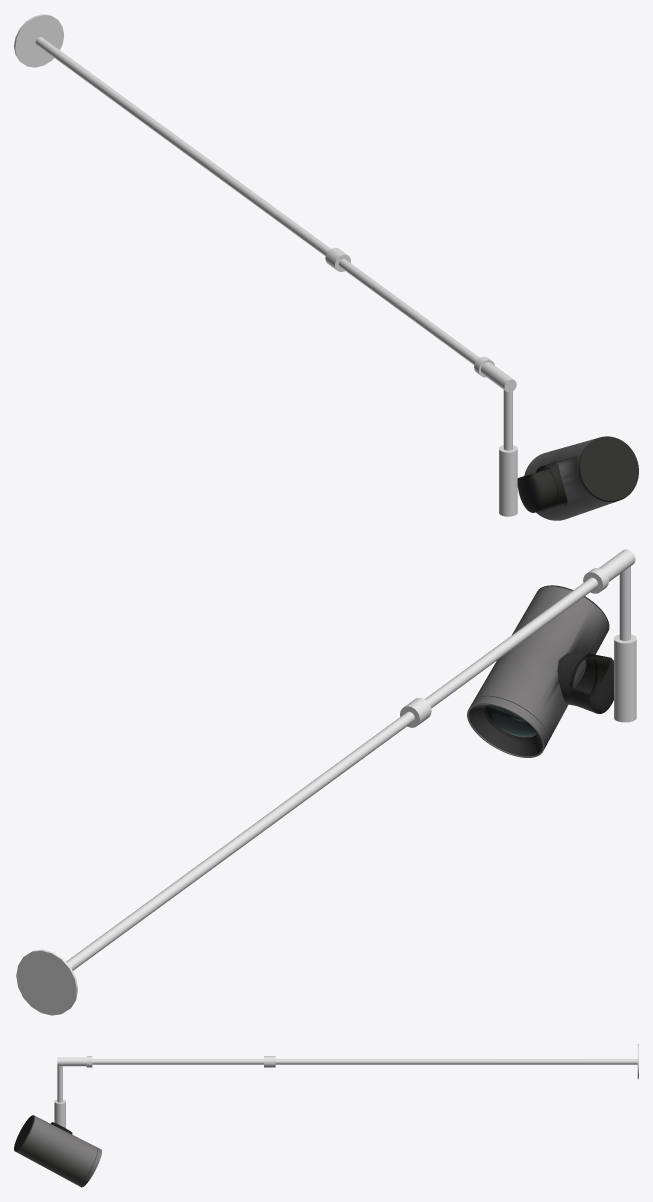
The picture shows the model from 3 angles, top to bottom: view 1: azimuth 30°, elevation 25°; view 2: azimuth 150°, elevation 25°; view 3: azimuth 270°, elevation 25°; orthographic projection. The views are drawn at different scales.
Parts seen in each view (by area): view 1: Group001, white, grey-2, black-2; view 2: Group001, white, grey-2, black-2, black-1; view 3: Group001, white, black-2, black-0.
Part boxes in pixels (bbox=[...]): Group001: bbox=[517, 436, 638, 520]; white: bbox=[35, 37, 514, 389]; grey-2: bbox=[14, 14, 64, 67]; black-2: bbox=[499, 445, 517, 516]; Group001: bbox=[467, 585, 613, 757]; white: bbox=[41, 577, 597, 988]; grey-2: bbox=[16, 949, 77, 1015]; black-2: bbox=[614, 634, 636, 722]; black-1: bbox=[619, 566, 630, 640]; Group001: bbox=[14, 1115, 101, 1187]; white: bbox=[92, 1059, 637, 1064]; black-2: bbox=[54, 1099, 65, 1128]; black-0: bbox=[57, 1057, 86, 1066].
Size of the model in its own units: 61.86 by 89.09 by 430.
Materials: 2 (2 with a texture image).
